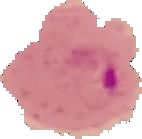parasitized: (63, 37, 124, 116)
